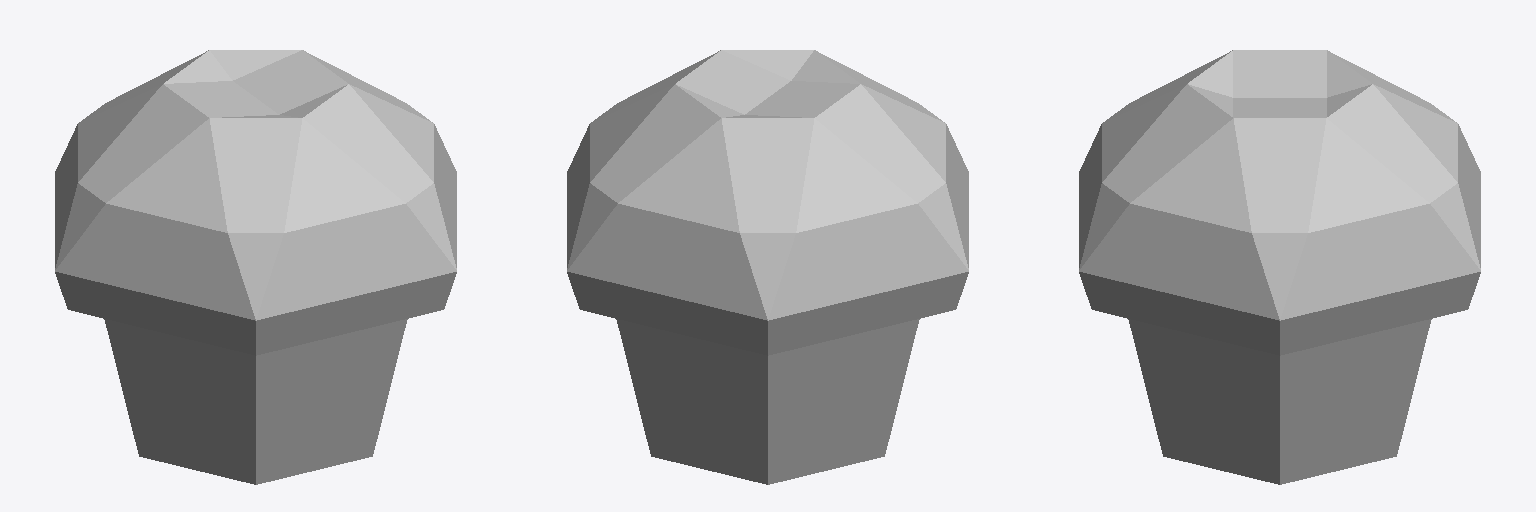
The model's file is muffin.obj.
3 views of the same model, side by side, from view 1: azimuth 30°, elevation 25°; view 2: azimuth 150°, elevation 25°; view 3: azimuth 270°, elevation 25° (orthographic).
Parts seen in each view (by area): view 1: muffin; view 2: muffin; view 3: muffin.
Boxes of the visible parts, <box> form: muffin: <box>55,50,456,484</box>; muffin: <box>567,50,968,484</box>; muffin: <box>1079,50,1480,484</box>.
Size of the model in its own units: 0.3047 by 0.2486 by 0.2639.